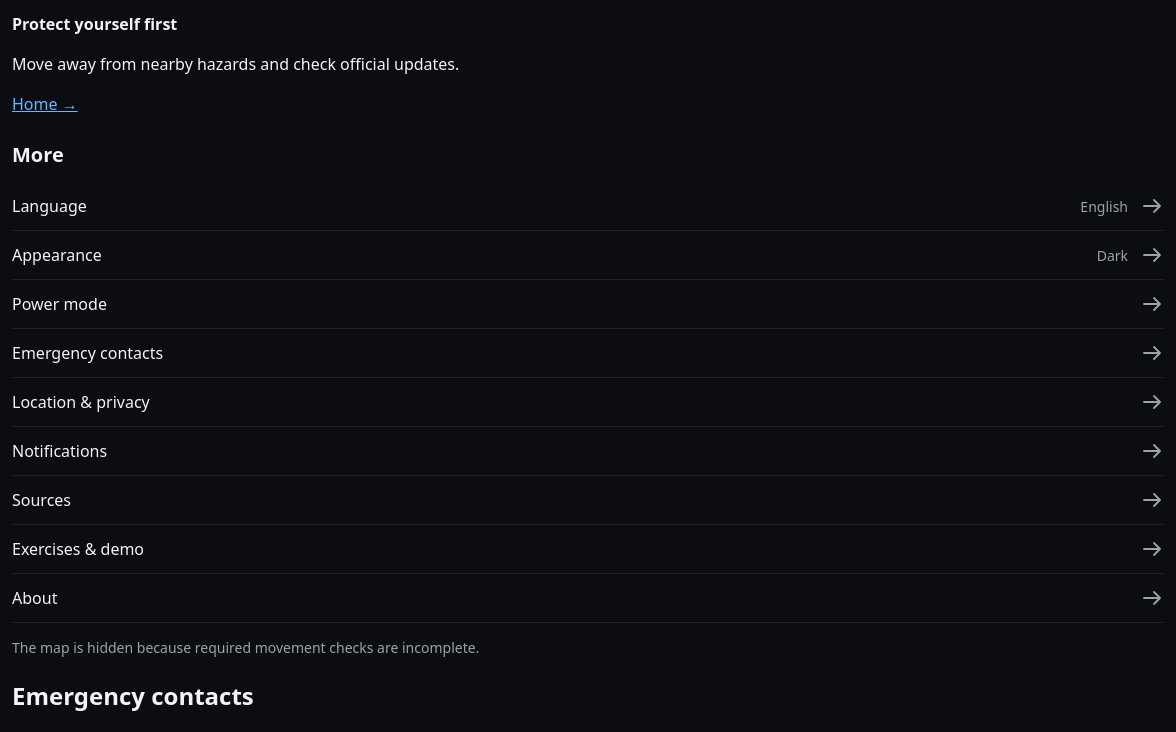
Test: mobile More and Plan navigation › disables the single More GPS action while a device location request is active
Click the button with class "ui-row" showing "Location & privacy": (81, 402) [12,378,1164,427]
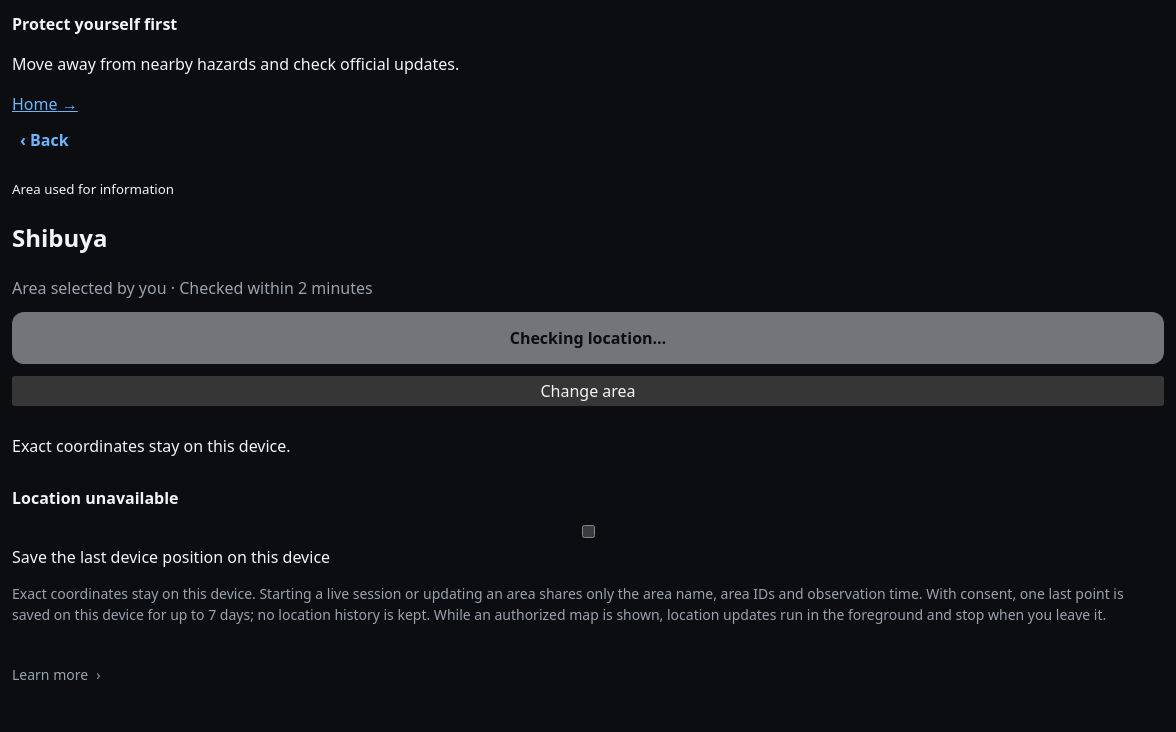
Check: the button "Checking location…" is disabled, box [12,312,1164,364]
